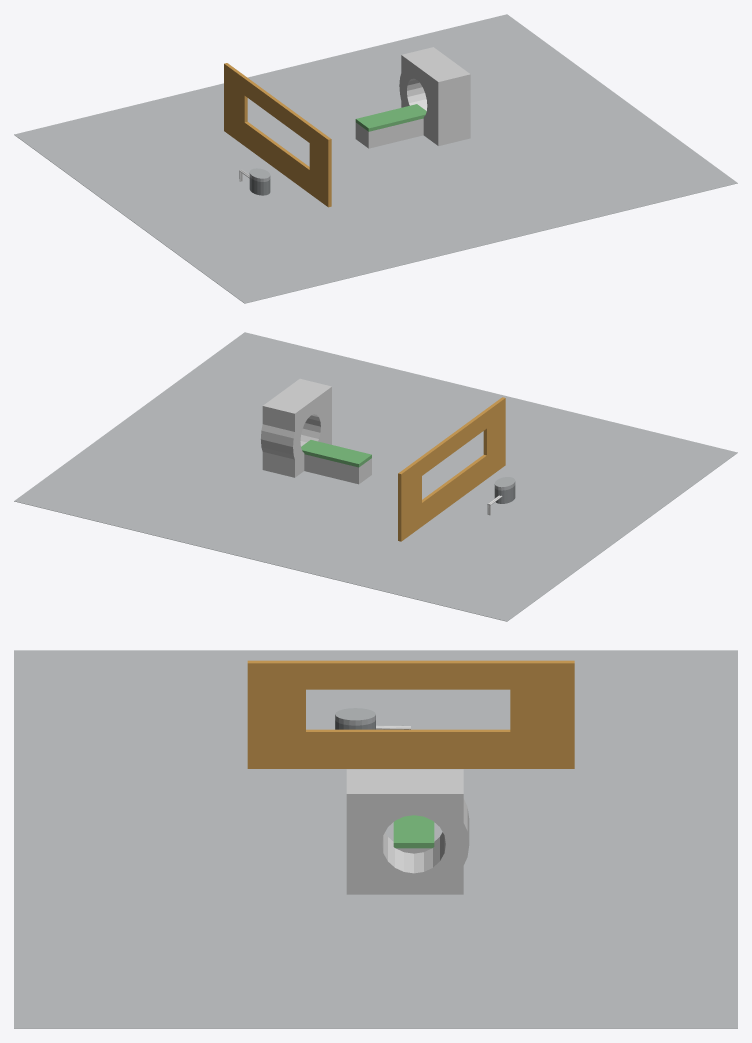
The model's file is mri room.glb.
3 renders of one model, top to bottom at view 1: azimuth 30°, elevation 25°; view 2: azimuth 150°, elevation 25°; view 3: azimuth 270°, elevation 25°, orthographic. The views are drawn at different scales.
Parts seen in each view (by area): view 1: Mesh_Mesh_head_geo.001_lambert2SG.001; view 2: Mesh_Mesh_head_geo.001_lambert2SG.001; view 3: Mesh_Mesh_head_geo.001_lambert2SG.001.
Boxes of the visible parts, x1,y1,x2,y2 form: Mesh_Mesh_head_geo.001_lambert2SG.001: [14, 14, 737, 303]; Mesh_Mesh_head_geo.001_lambert2SG.001: [14, 332, 737, 621]; Mesh_Mesh_head_geo.001_lambert2SG.001: [14, 650, 737, 1028].
Bounding box in the file's own units: 153 × 22 × 124.
